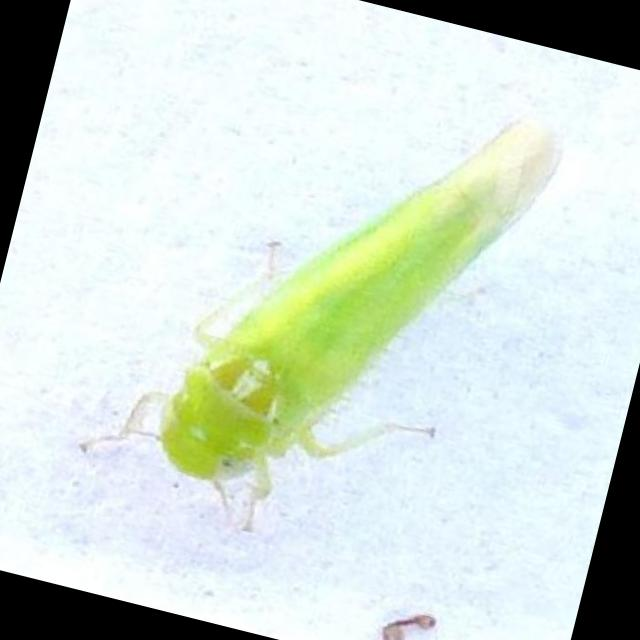green-leafhopper: (74, 126, 561, 526)
